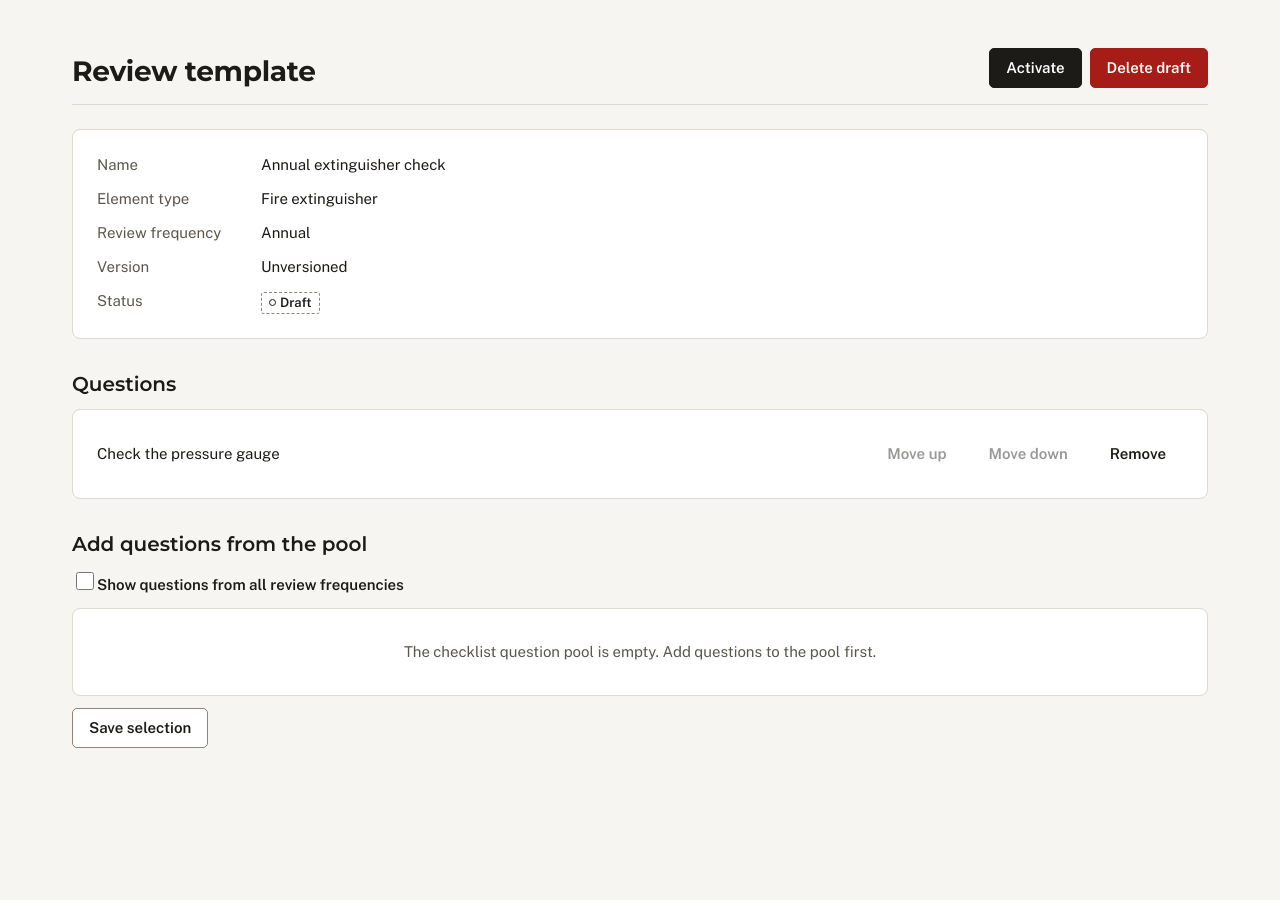
Test case: ReviewTemplateDetailPage › draft template › names the currently active version in the activate confirmation (spec: Confirmation names the version being retired)
Click the button with test id "review-template-detail-activate" at (1036, 68), box [989,48,1082,88]
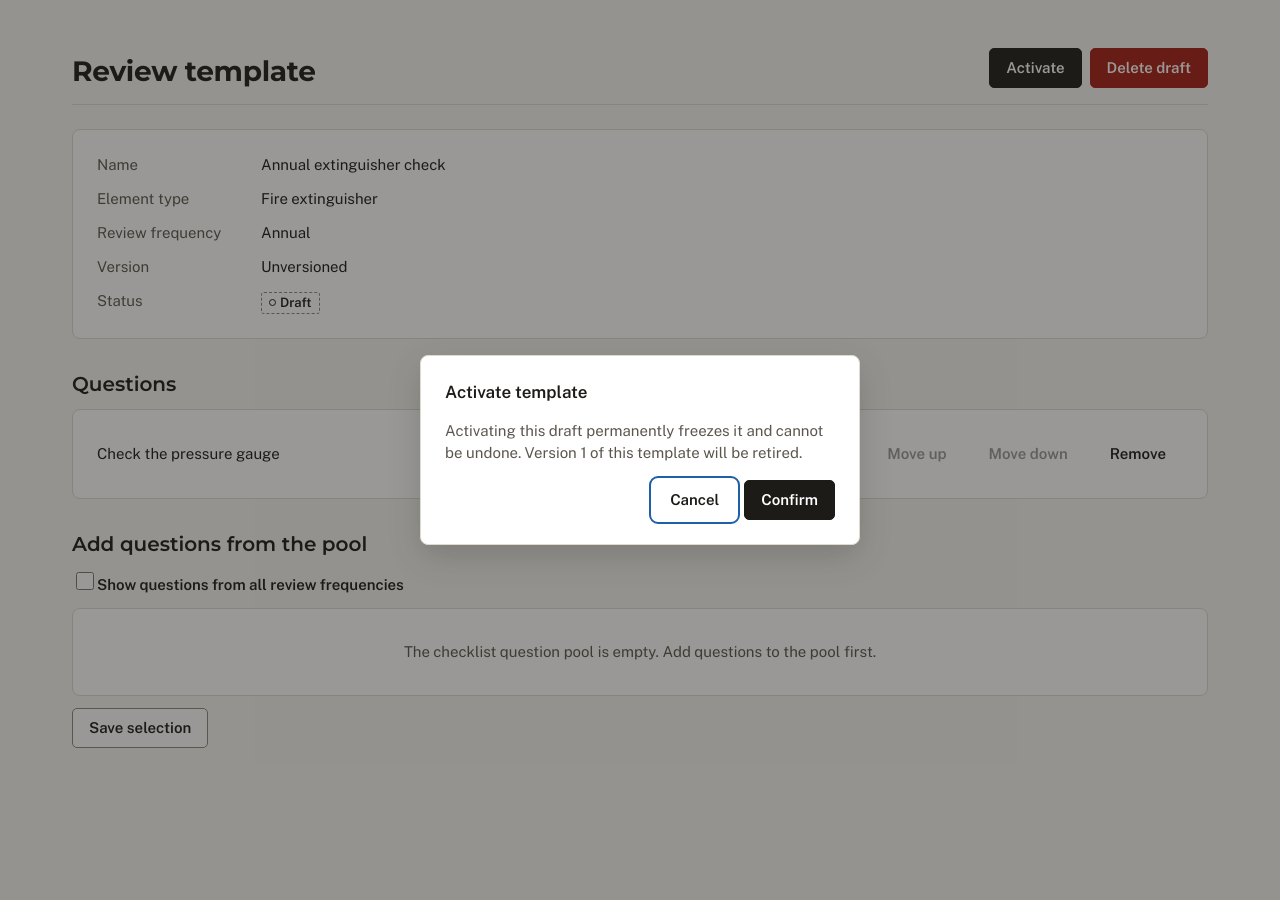
Check: the dialog with test id "confirm-dialog" shows "Version 1", box [445,422,824,461]
Check: the dialog with test id "confirm-dialog" shows "permanent", box [445,422,824,461]
